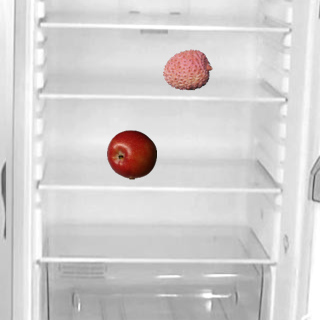Apple Braeburn: (106, 129, 156, 179)
Lychee: (162, 44, 212, 94)
